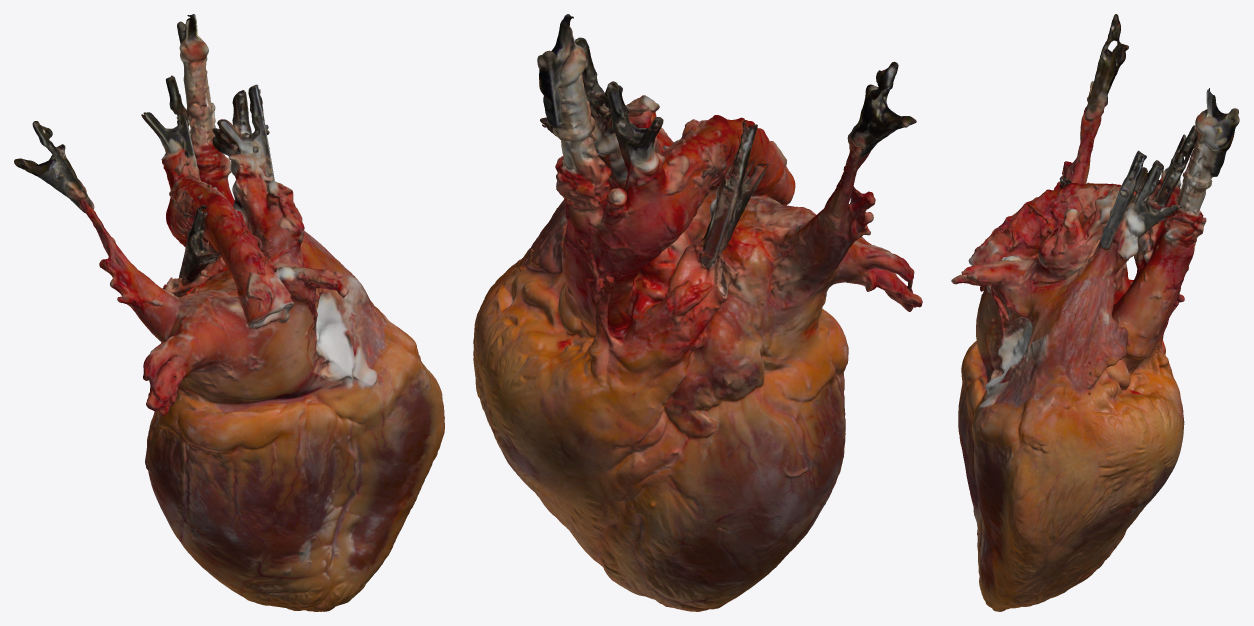
The model's file is RealHeartCoronary1.glb.
3 views of the same model, side by side, from view 1: azimuth 30°, elevation 25°; view 2: azimuth 150°, elevation 25°; view 3: azimuth 270°, elevation 25° (orthographic). The views are drawn at different scales.
Parts seen in each view (by area): view 1: Heart; view 2: Heart; view 3: Heart.
Boxes of the visible parts, x1,y1,x2,y2 form: Heart: (14, 14, 444, 611); Heart: (473, 14, 922, 611); Heart: (951, 14, 1239, 611).
Size of the model in its own units: 0.1963 by 0.2588 by 0.1339.
1 material, 1 textured.
